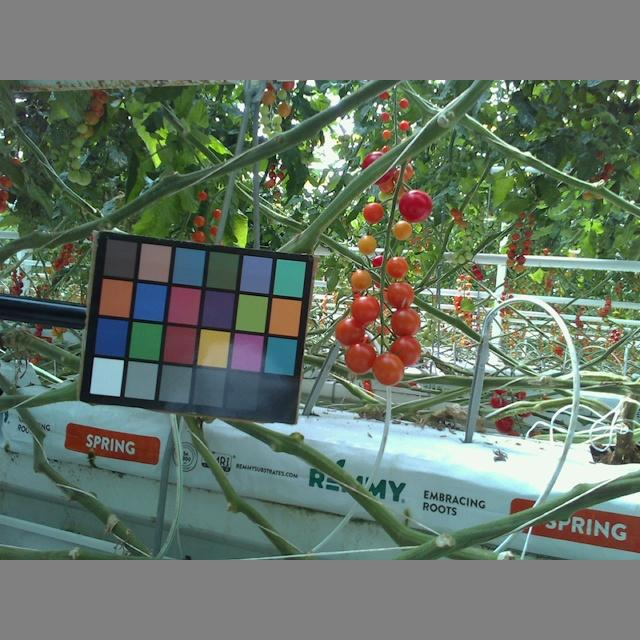pink: (345, 337, 379, 374), (333, 315, 368, 347), (372, 350, 403, 385), (389, 306, 421, 339), (388, 335, 421, 367), (380, 281, 414, 310), (351, 294, 383, 323), (349, 268, 373, 292), (387, 253, 408, 280), (356, 235, 378, 256), (393, 218, 413, 240)
red: (399, 187, 432, 221), (361, 202, 383, 223)
